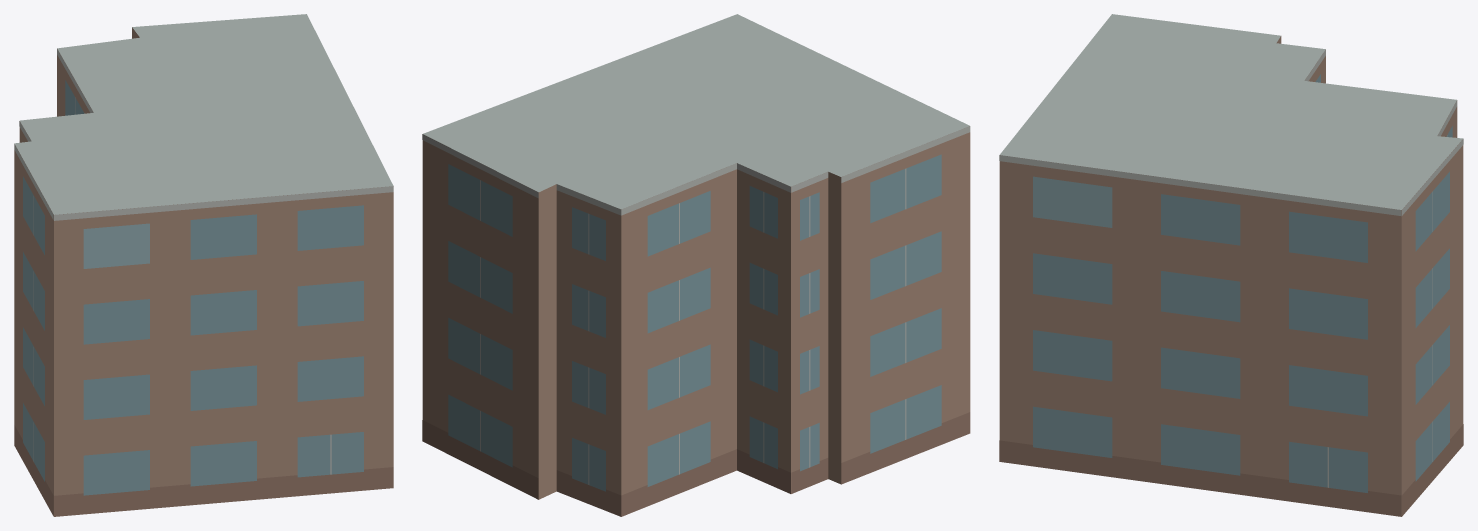
File: survey-upis-32852011.glb
The picture shows the model from 3 angles, left to right: view 1: azimuth 30°, elevation 25°; view 2: azimuth 150°, elevation 25°; view 3: azimuth 270°, elevation 25°; orthographic projection.
Visible parts, largest first — view 1: survey-upis-32852011.tmp; view 2: survey-upis-32852011.tmp; view 3: survey-upis-32852011.tmp.
Boxes of the visible parts, x1=… form: survey-upis-32852011.tmp: x1=14, y1=14, x2=393, y2=516; survey-upis-32852011.tmp: x1=422, y1=14, x2=970, y2=516; survey-upis-32852011.tmp: x1=999, y1=14, x2=1463, y2=516.
Size of the model in its own units: 16.73 by 12.2 by 16.73.
